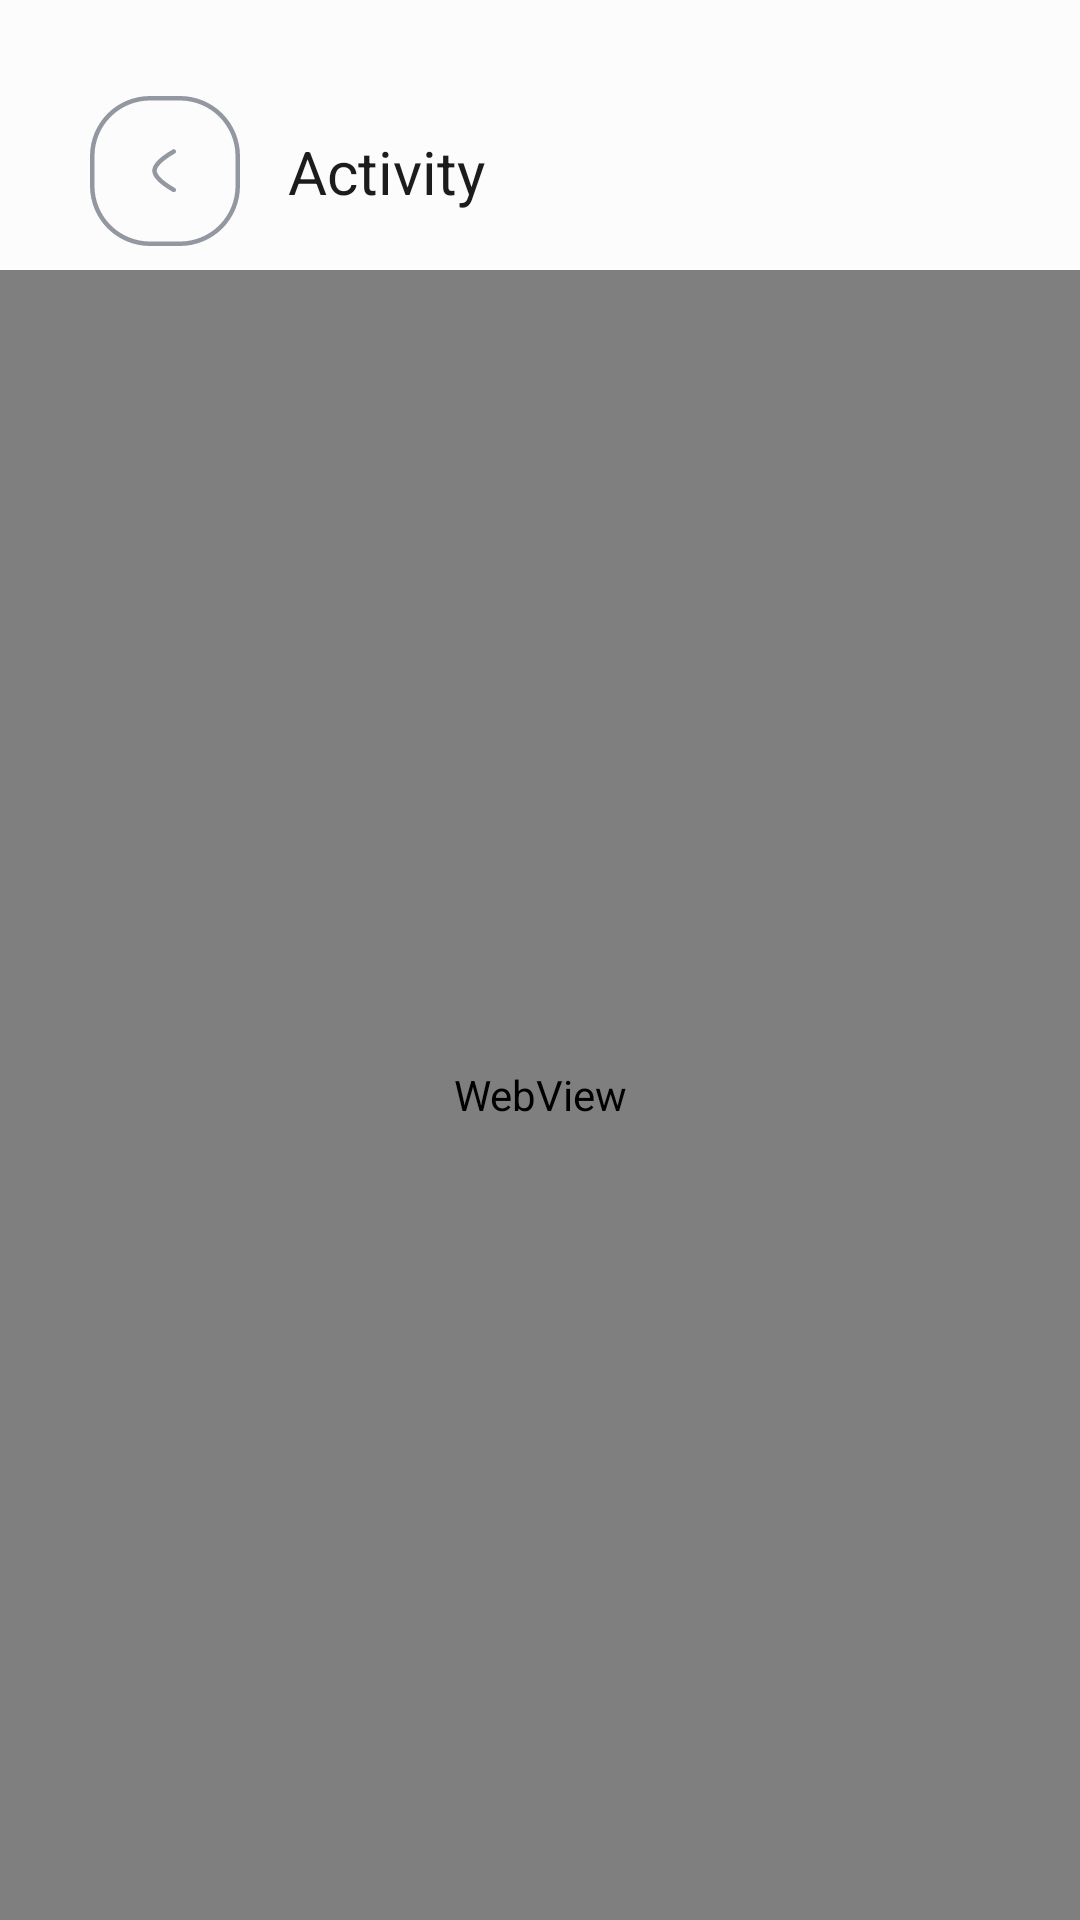

Icon click points for this 1080px×1920px phone screenshot, format [x,y]:
back: [165,171]
